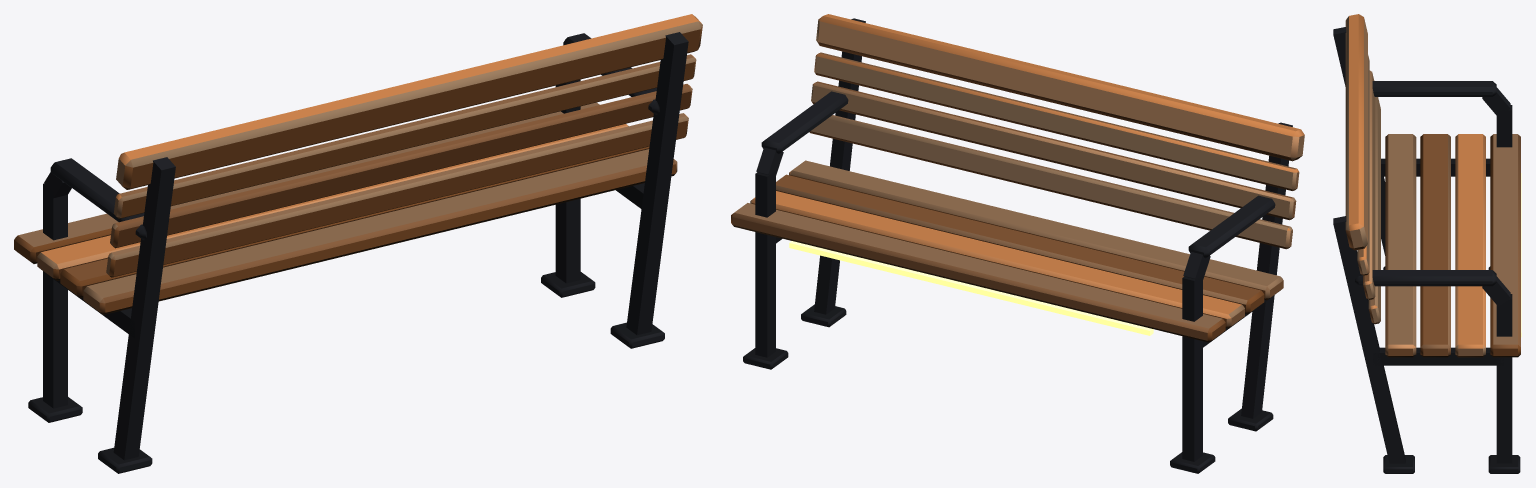
Rendered from seat_bench_v2.glb.
The picture shows the model from 3 angles, left to right: view 1: azimuth 30°, elevation 25°; view 2: azimuth 150°, elevation 25°; view 3: azimuth 270°, elevation 25°; orthographic projection. The views are drawn at different scales.
Parts seen in each view (by area): view 1: body; view 2: body, lights; view 3: body.
Boxes of the visible parts, x1,y1,x2,y2 form: body: [14, 14, 702, 473]; body: [731, 14, 1304, 473]; lights: [789, 241, 1153, 335]; body: [1333, 14, 1520, 473].
Bounding box in the file's own units: 1.6 × 0.8975 × 0.5981.
